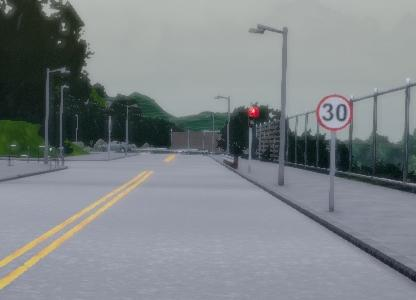Speed_30: (316, 91, 354, 131)
